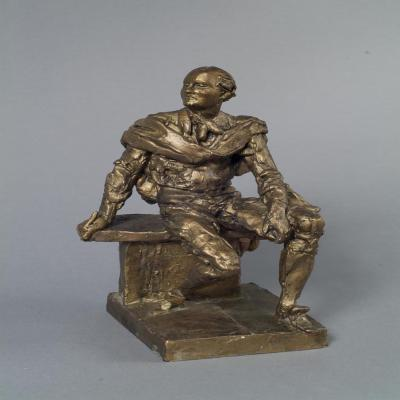sculpture: (75, 67, 329, 363)
